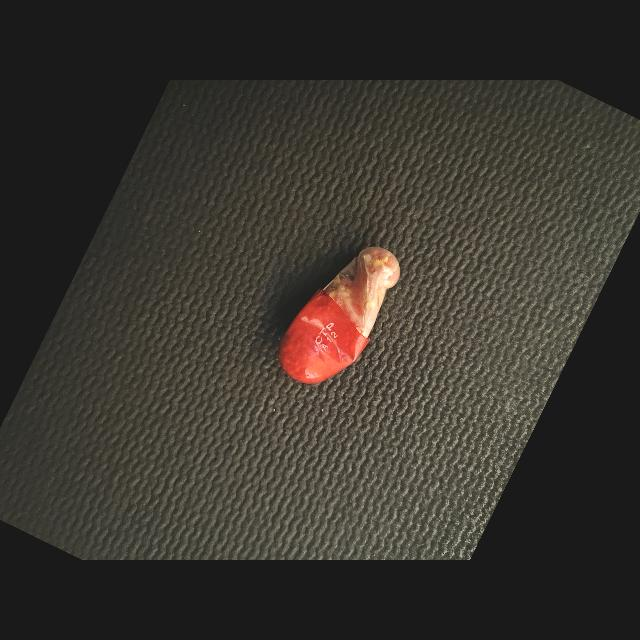Defective Capsule: (279, 247, 400, 384)
